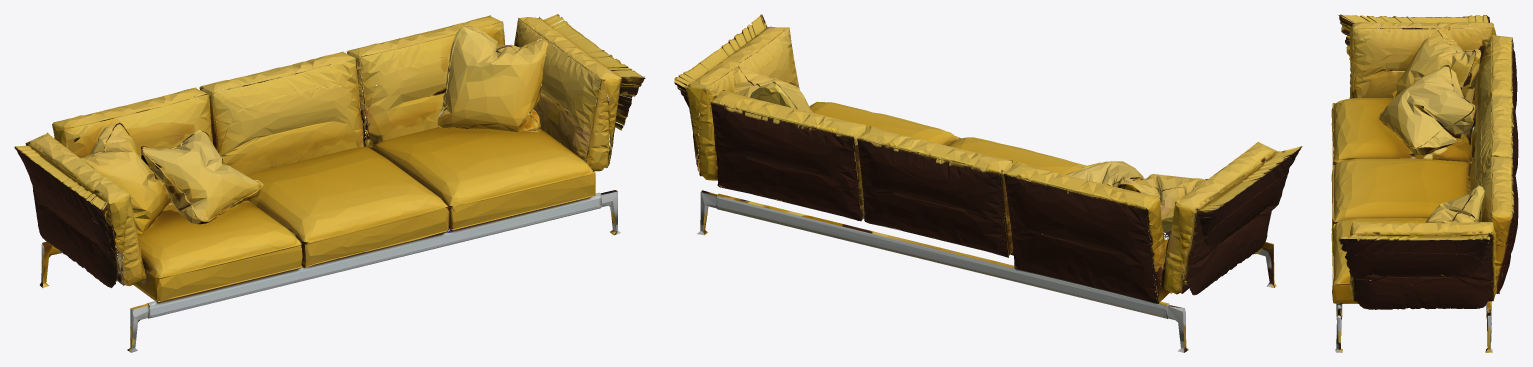
Rendered from edited_mesh.glb.
3 renders of one model, left to right at view 1: azimuth 30°, elevation 25°; view 2: azimuth 150°, elevation 25°; view 3: azimuth 270°, elevation 25°, orthographic. The views are drawn at different scales.
Visible parts, largest first — view 1: solid_001_wire; view 2: solid_001_wire; view 3: solid_001_wire.
Part boxes in pixels (x1,y1,x2,y2): solid_001_wire: (14, 14, 645, 352); solid_001_wire: (674, 14, 1302, 352); solid_001_wire: (1331, 14, 1518, 352).
Size of the model in its own units: 2 by 0.577 by 0.7051.
Materials: 1 (1 with a texture image).
